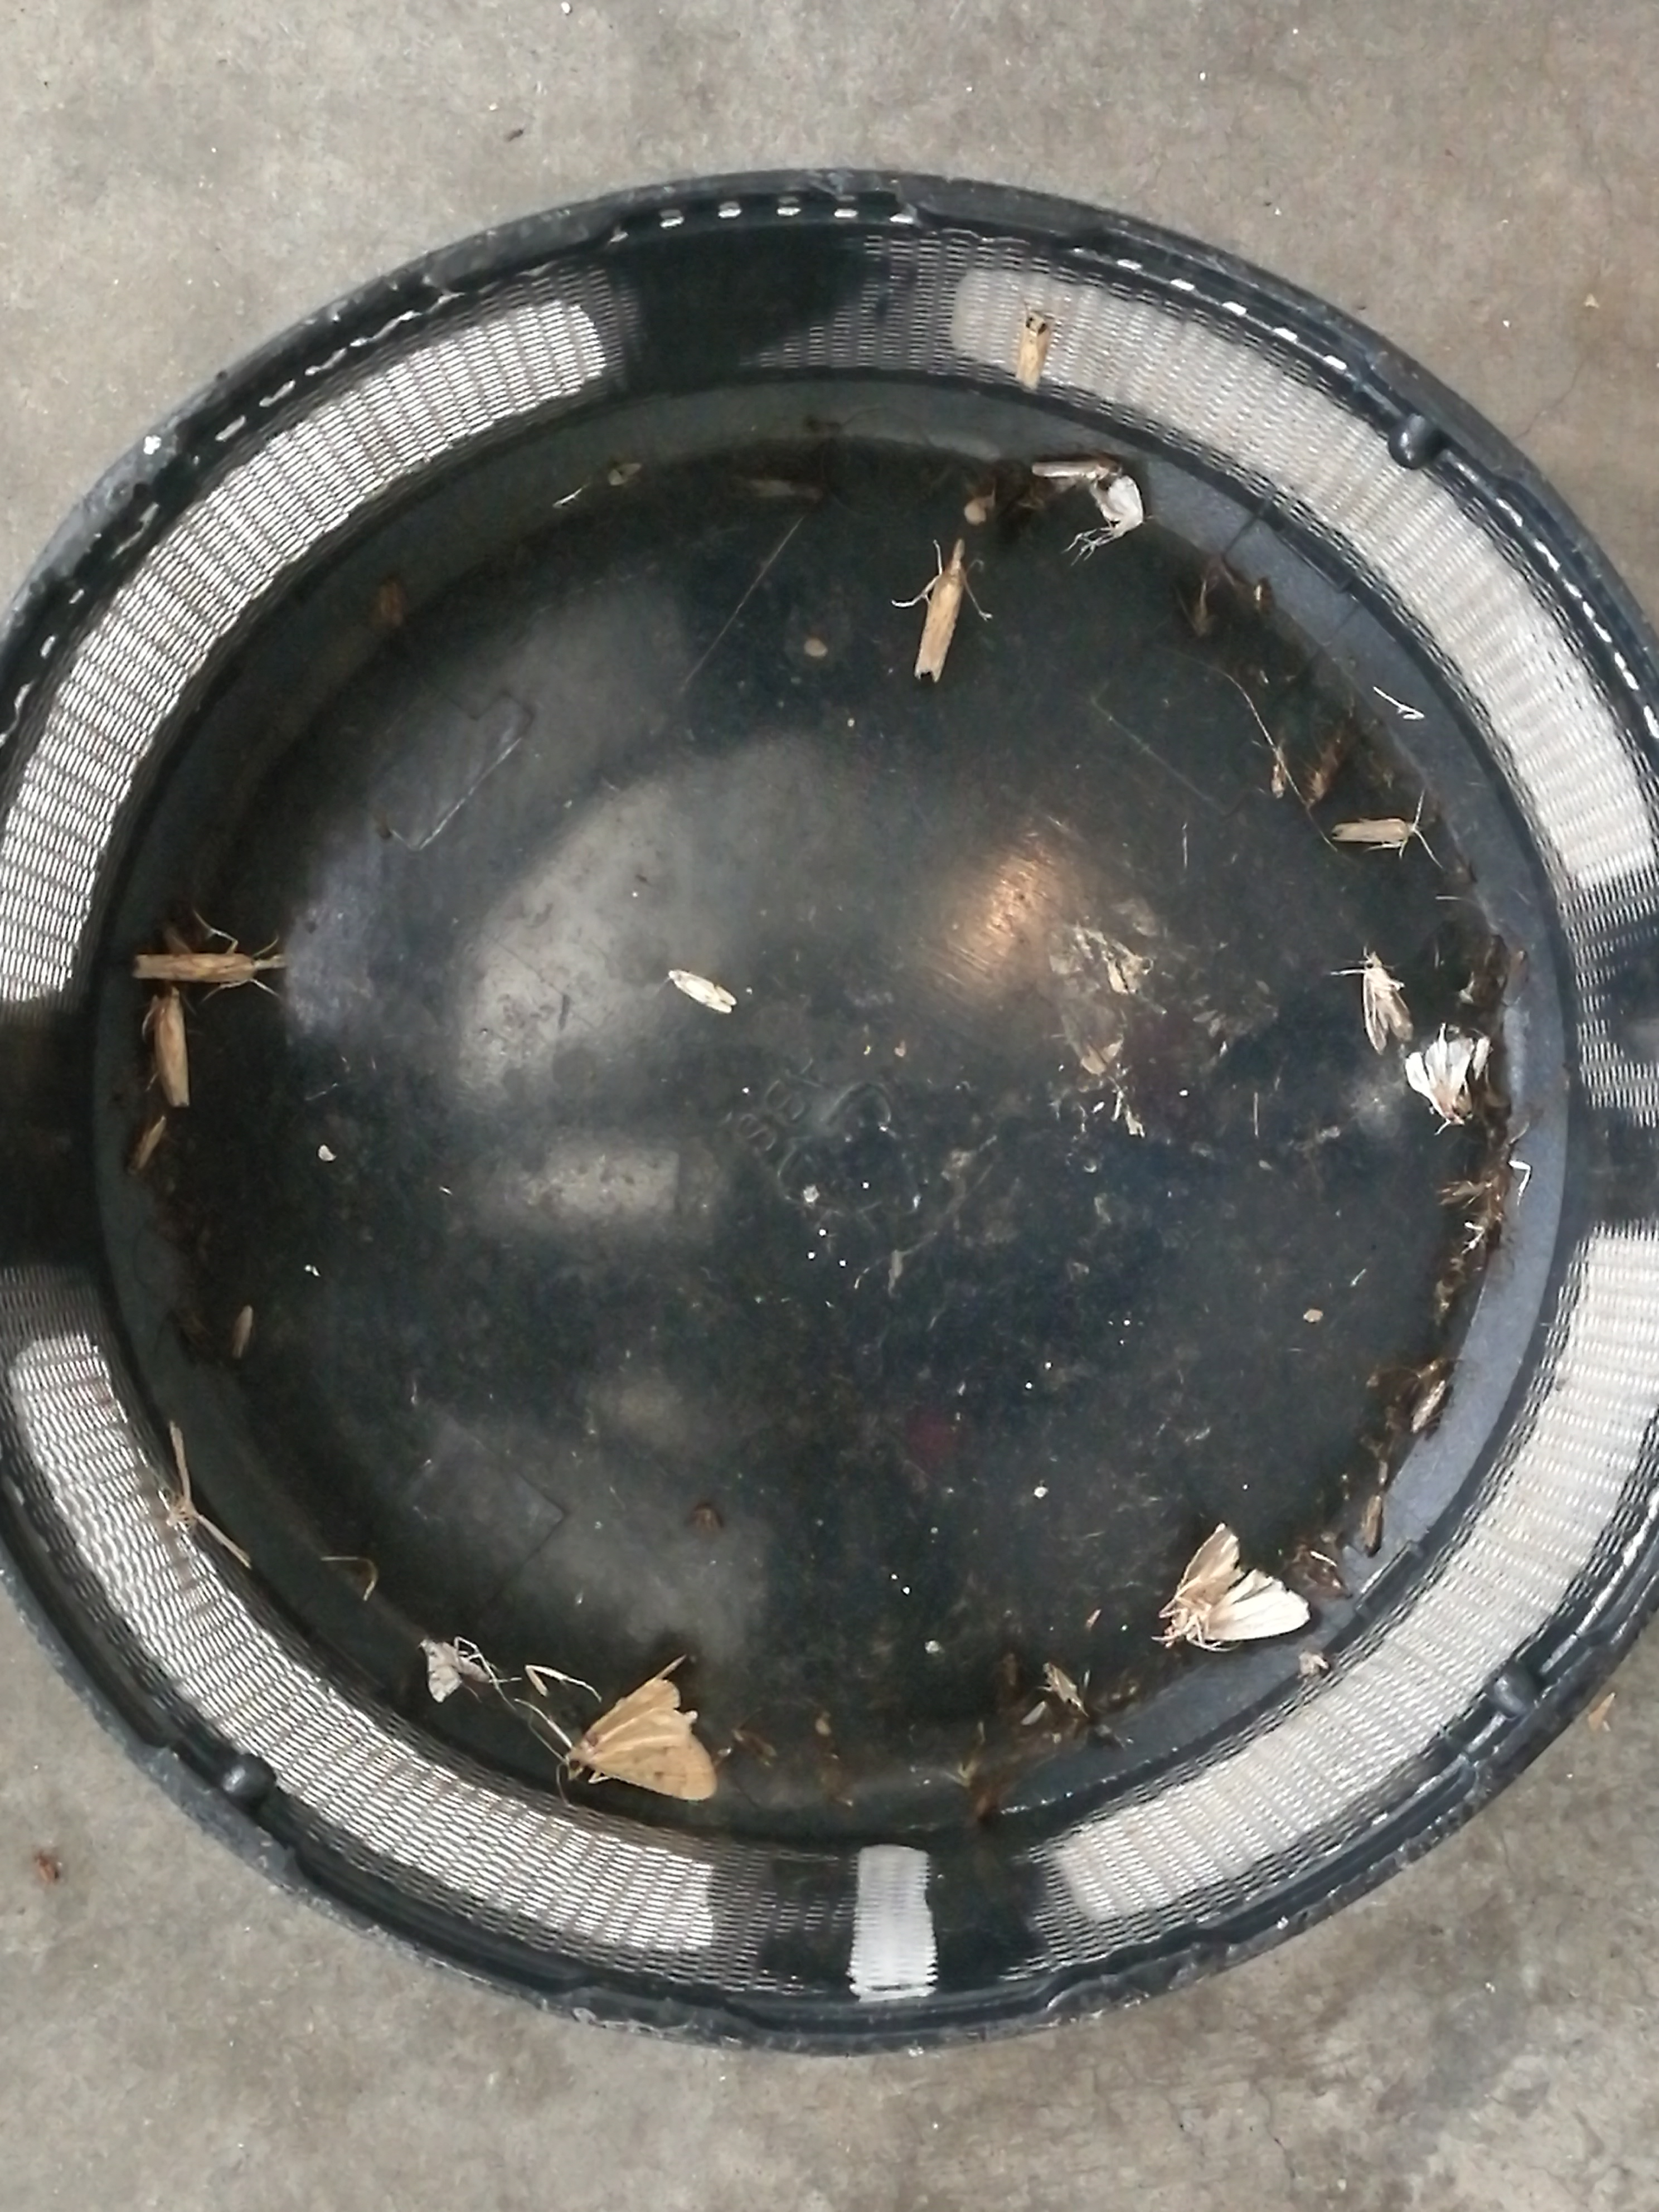mosquito: (915, 540, 964, 679), (153, 988, 188, 1104), (134, 953, 253, 982), (671, 968, 737, 1014), (1016, 317, 1047, 390), (127, 1115, 166, 1172), (1333, 820, 1419, 845), (1412, 1381, 1445, 1432), (1438, 1179, 1490, 1204), (1364, 1491, 1380, 1557)
moth: (1155, 1522, 1307, 1649), (566, 1677, 716, 1799), (1405, 1036, 1474, 1125), (1363, 951, 1412, 1054), (422, 1639, 488, 1703), (1091, 475, 1143, 538)
